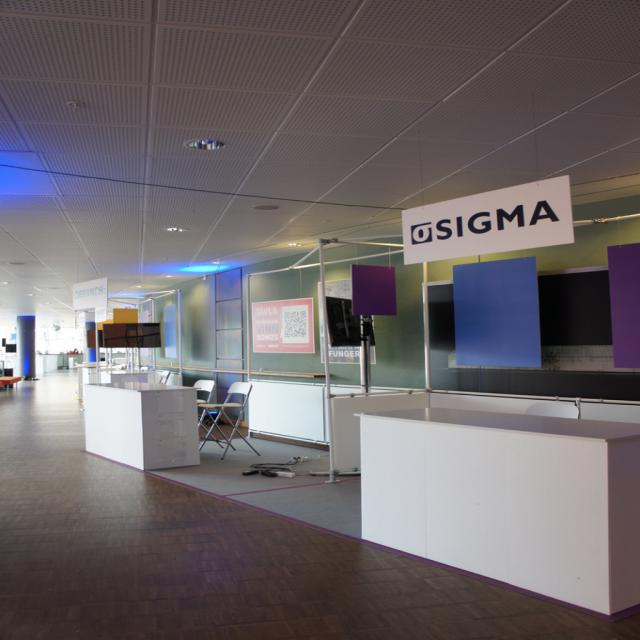chair: (198, 382, 260, 459)
desk: (350, 400, 640, 620), (75, 364, 214, 478)
